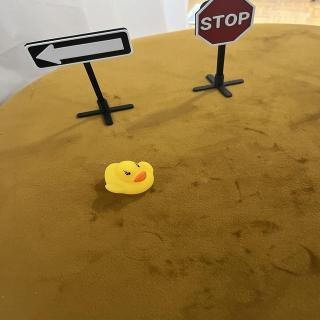duck_regular: (102, 159, 157, 198)
sign_oneway_left: (25, 28, 137, 74)
sign_stop: (194, 1, 257, 49)
